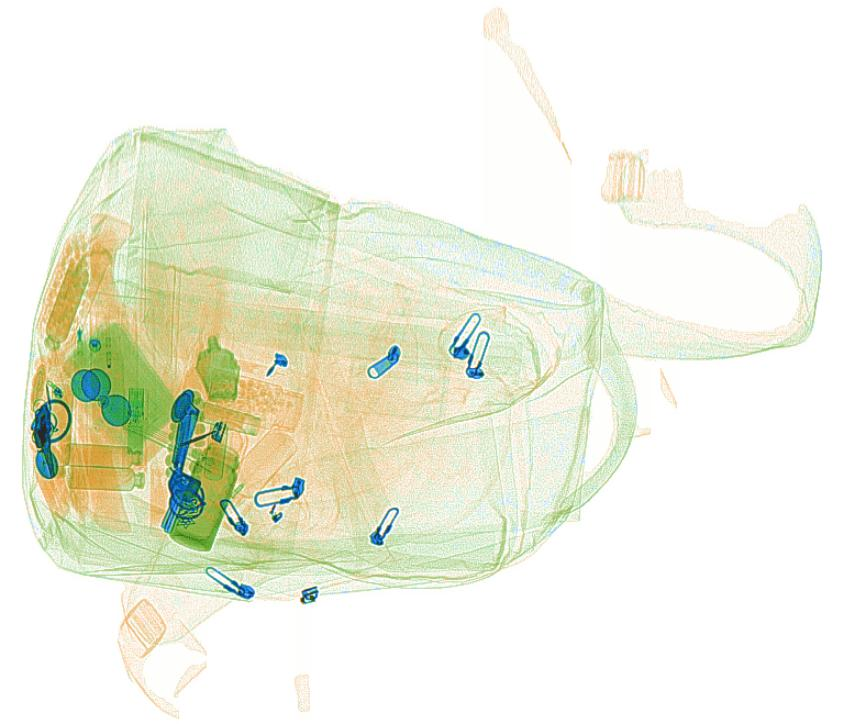USBFlashDisk: (121, 385, 145, 454)
